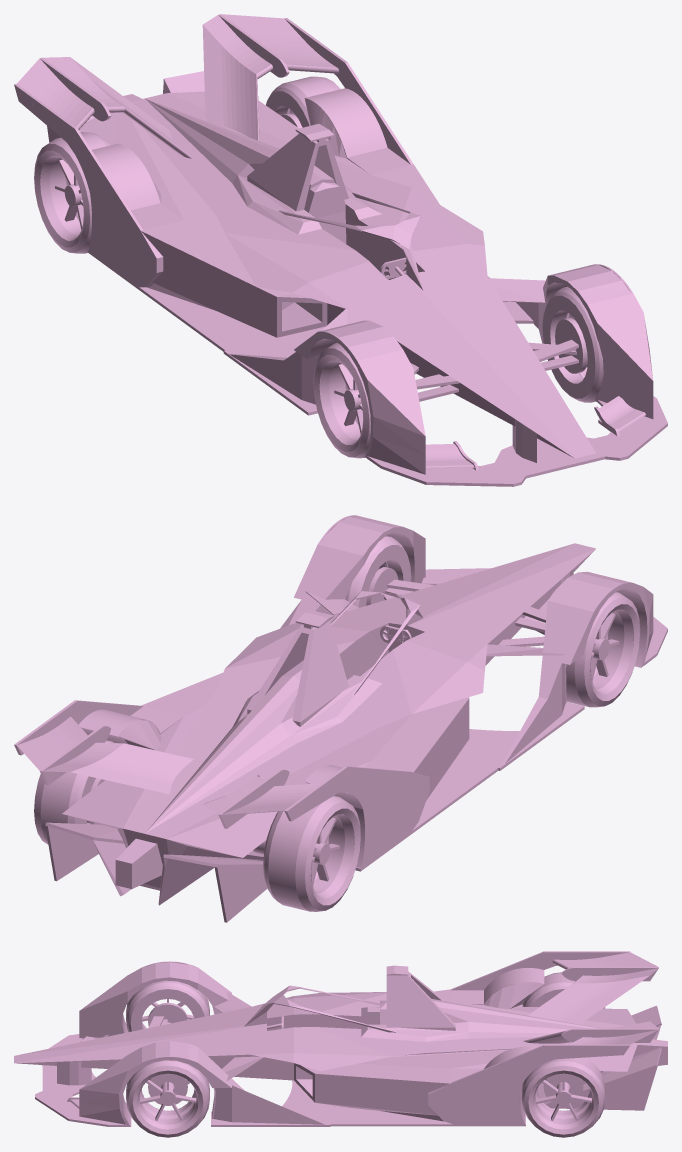
File: gen3.glb
The picture shows the model from 3 angles, top to bottom: view 1: azimuth 30°, elevation 25°; view 2: azimuth 150°, elevation 25°; view 3: azimuth 270°, elevation 25°; orthographic projection. The views are drawn at different scales.
Parts seen in each view (by area): view 1: gen3; view 2: gen3; view 3: gen3.
Boxes of the visible parts, x1=… form: gen3: x1=14, y1=14, x2=667, y2=486; gen3: x1=14, y1=515, x2=667, y2=922; gen3: x1=14, y1=951, x2=667, y2=1137.
Bounding box in the file's own units: 1.99 × 1.2 × 5.76.
